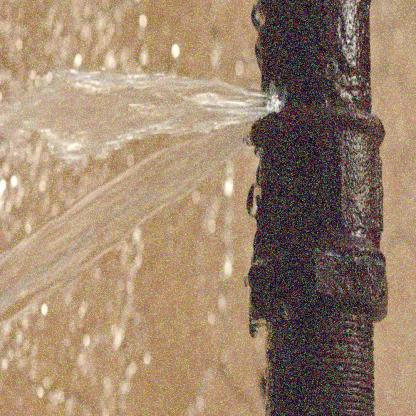burst: (216, 70, 299, 158)
